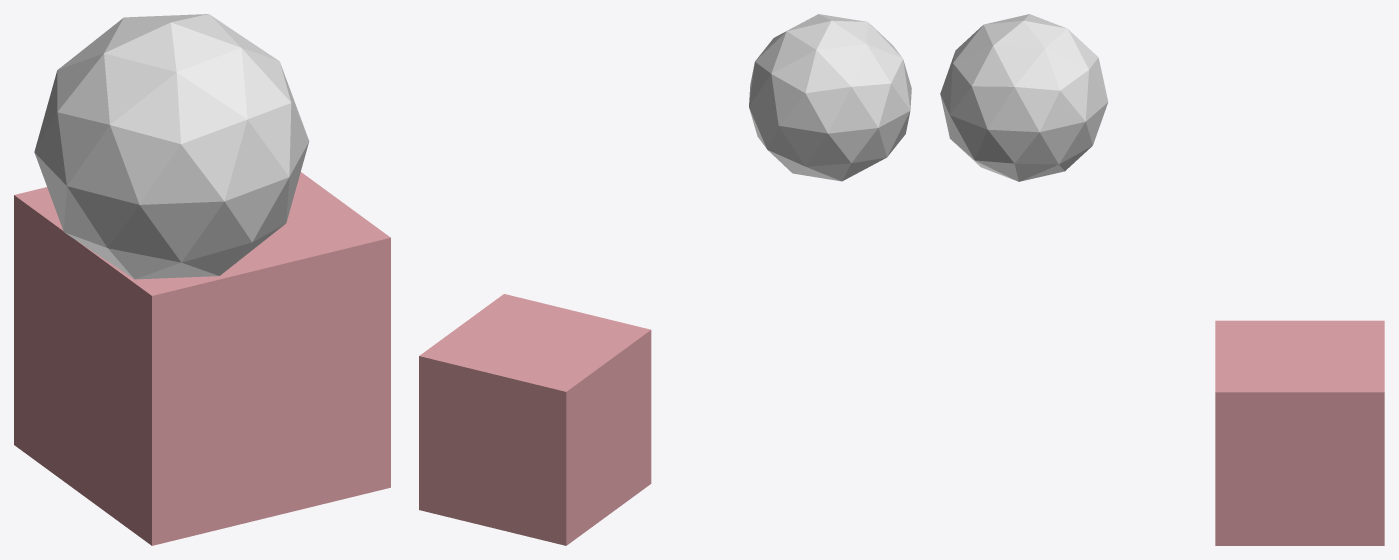
File: camera-track.glb
3 views of the same model, side by side, from view 1: azimuth 30°, elevation 25°; view 2: azimuth 150°, elevation 25°; view 3: azimuth 270°, elevation 25° (orthographic). The views are drawn at different scales.
Parts seen in each view (by area): view 1: Cube, Icosphere; view 2: Cube, Icosphere; view 3: Cube, Icosphere.
Part boxes in pixels (x1,y1,x2,y2): Cube: [14, 172, 390, 545]; Icosphere: [34, 14, 309, 279]; Cube: [419, 294, 651, 545]; Icosphere: [749, 14, 911, 181]; Cube: [1215, 320, 1384, 545]; Icosphere: [940, 14, 1108, 181].
Size of the model in its own units: 4.12 by 5.37 by 5.24.
